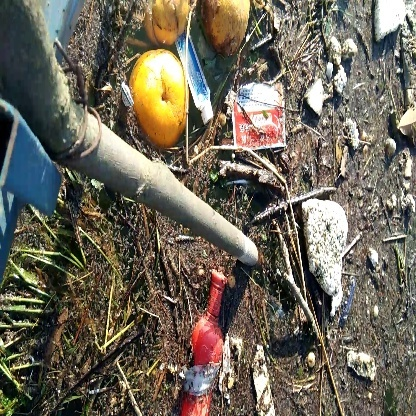ball: (130, 45, 192, 148)
bottle: (179, 265, 234, 416)
plastic-bag: (230, 81, 292, 154)
plastic-garbage: (299, 197, 348, 311)
